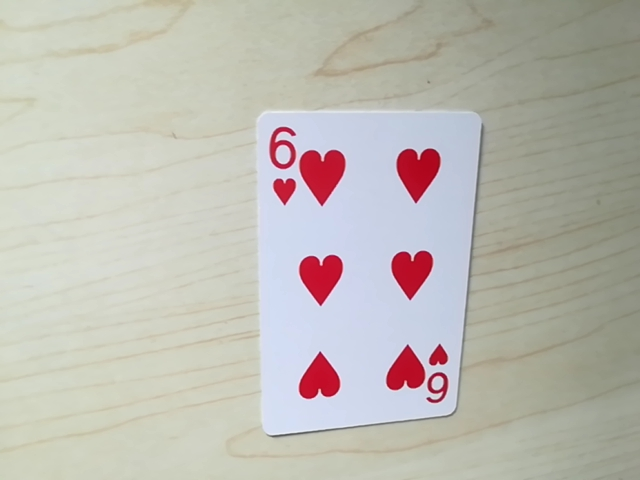hx 6: (261, 121, 298, 208), (427, 340, 454, 407)
